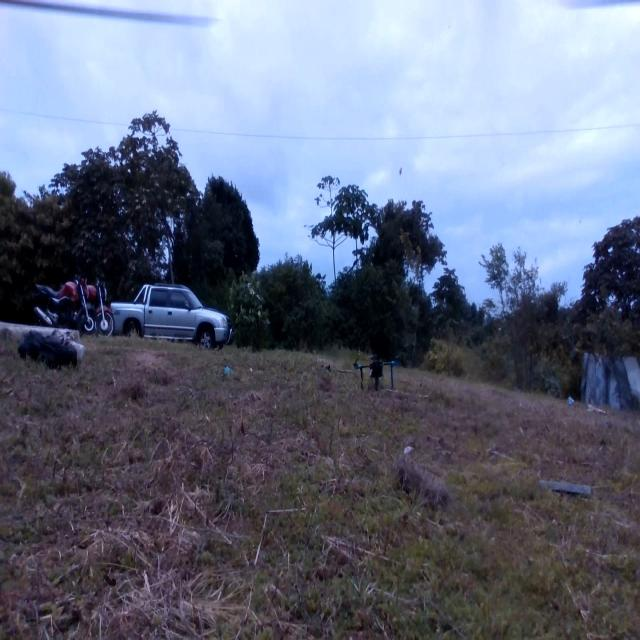-uav-: (342, 336, 407, 398)
